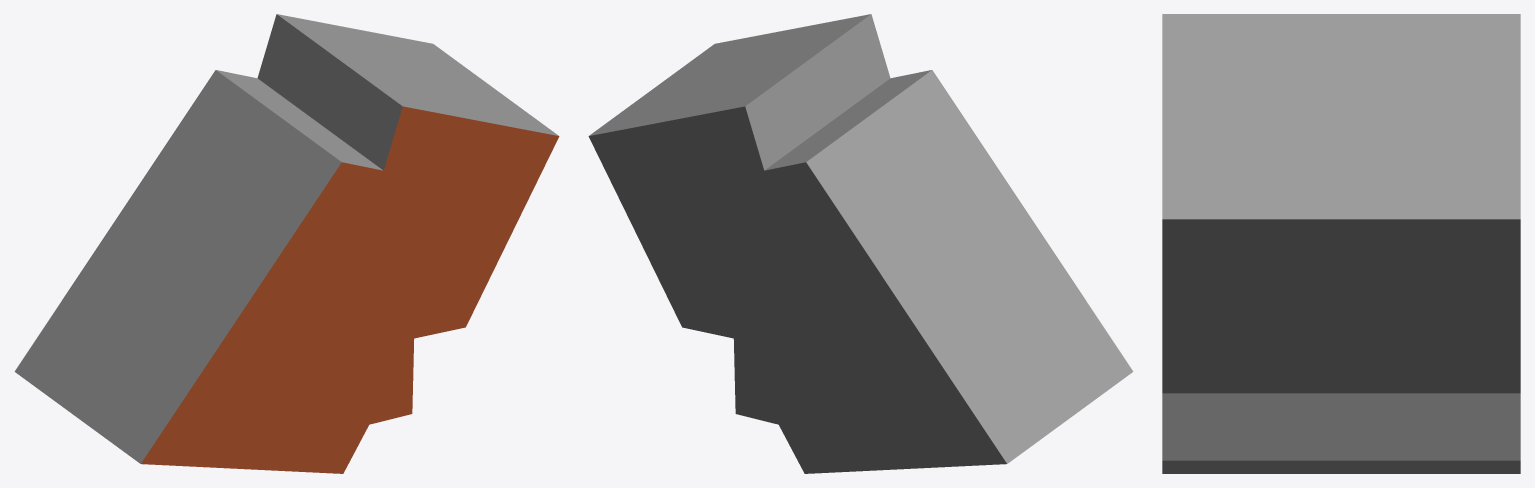
File: construction_2893_assumed_A_Casa_h6m.obj
The picture shows the model from 3 angles, left to right: view 1: azimuth 30°, elevation 25°; view 2: azimuth 150°, elevation 25°; view 3: azimuth 270°, elevation 25°; orthographic projection. The views are drawn at different scales.
Visible parts, largest first — view 1: construction_2893_assumed_A_Casa; view 2: construction_2893_assumed_A_Casa; view 3: construction_2893_assumed_A_Casa.
Part boxes in pixels (x1=…): construction_2893_assumed_A_Casa: x1=14, y1=14, x2=559, y2=473; construction_2893_assumed_A_Casa: x1=588, y1=14, x2=1133, y2=473; construction_2893_assumed_A_Casa: x1=1162, y1=14, x2=1520, y2=473.
Bounding box in the file's own units: 11.49 × 9.26 × 6.
